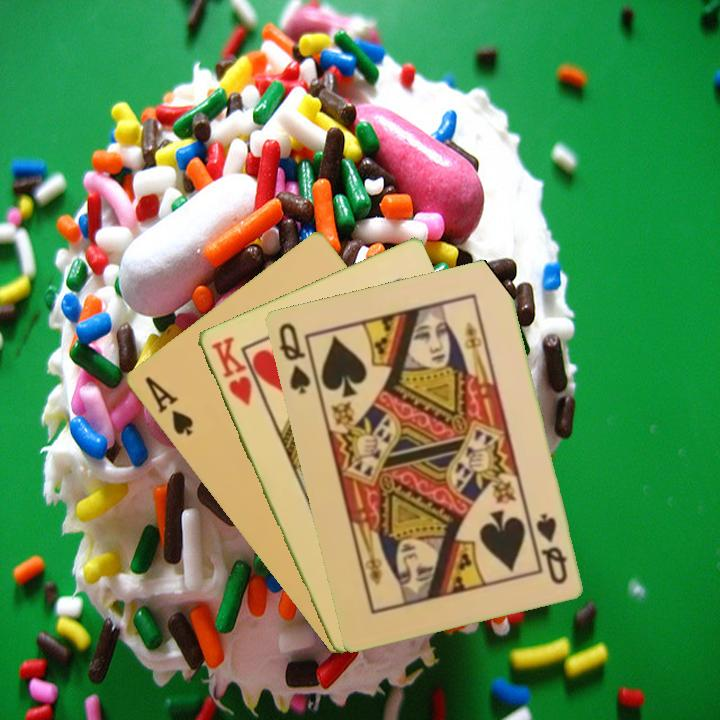As: (141, 372, 196, 439)
Kh: (207, 332, 255, 408)
Qs: (274, 318, 313, 397), (531, 509, 570, 587)
